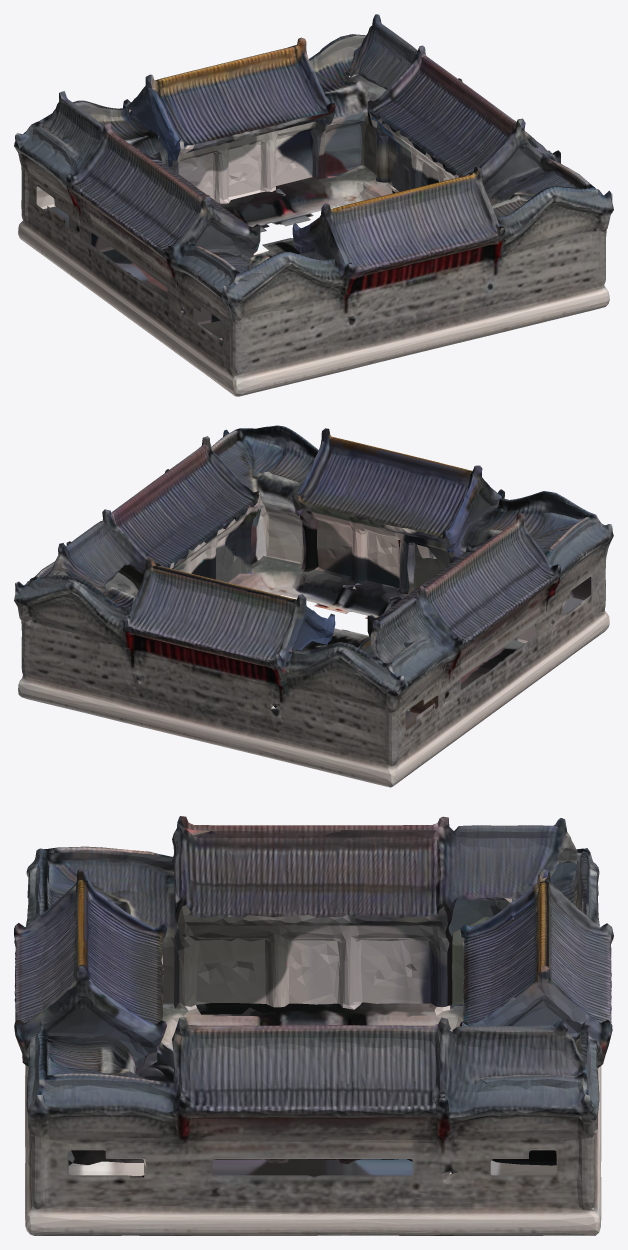
The model's file is mdl_siheyuan_001.glb.
3 renders of one model, top to bottom at view 1: azimuth 30°, elevation 25°; view 2: azimuth 150°, elevation 25°; view 3: azimuth 270°, elevation 25°, orthographic. The views are drawn at different scales.
Visible parts, largest first — view 1: tmp4n70eotv.ply; view 2: tmp4n70eotv.ply; view 3: tmp4n70eotv.ply.
Boxes of the visible parts, left/top/right/bottom form: tmp4n70eotv.ply: left=14, top=14, right=613, bottom=396; tmp4n70eotv.ply: left=14, top=425, right=613, bottom=787; tmp4n70eotv.ply: left=14, top=816, right=613, bottom=1235.
Bounding box in the file's own units: 0.9943 × 0.3675 × 0.9932.
Materials: 1 (1 with a texture image).
